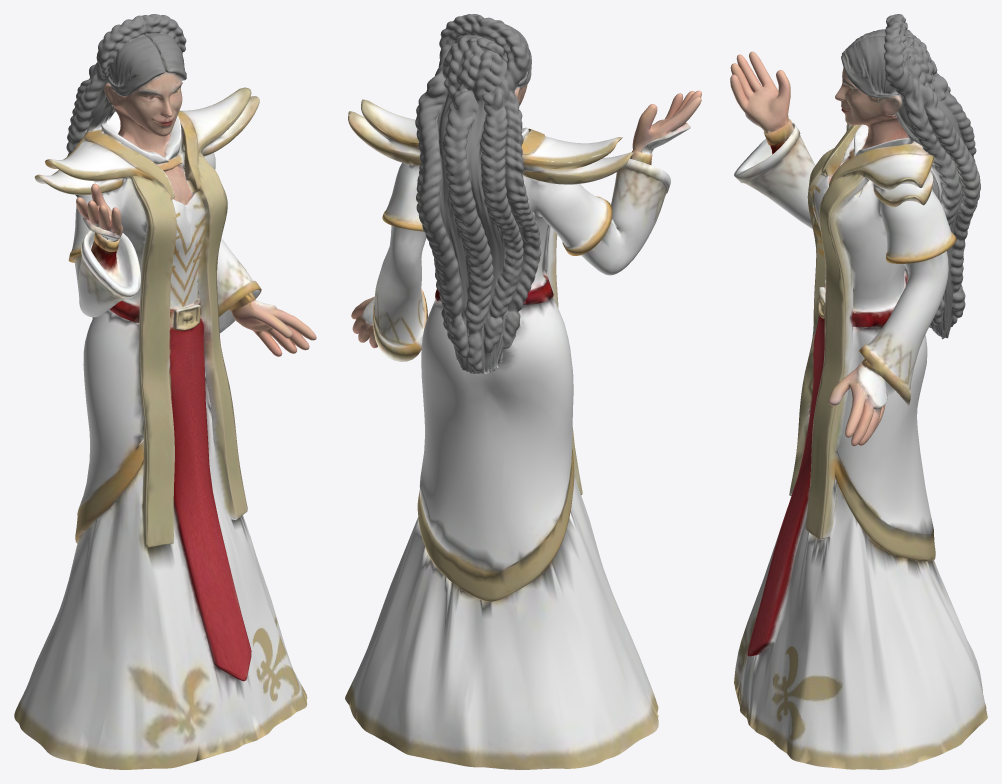
File: MZ4250 - Laeral Silverhand - Human Female Cleric.glb
3 renders of one model, left to right at view 1: azimuth 30°, elevation 25°; view 2: azimuth 150°, elevation 25°; view 3: azimuth 270°, elevation 25°, orthographic. The views are drawn at different scales.
Visible parts, largest first — view 1: default; view 2: default; view 3: default.
Part boxes in pixels (box(x1,y1,x2,y2)): default: box(14, 14, 316, 769); default: box(345, 14, 701, 769); default: box(730, 14, 987, 769).
Size of the model in its own units: 0.4981 by 1.13 by 0.3849.
1 material, 1 textured.
